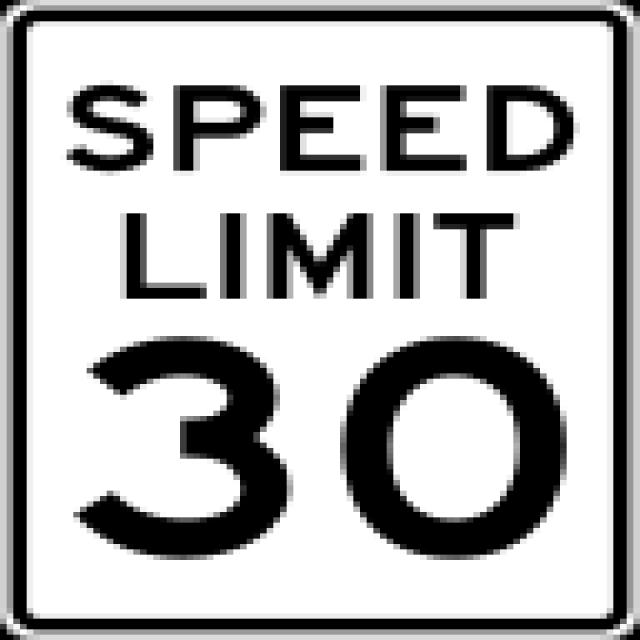Speed Limit -30-: (70, 327, 576, 560)
